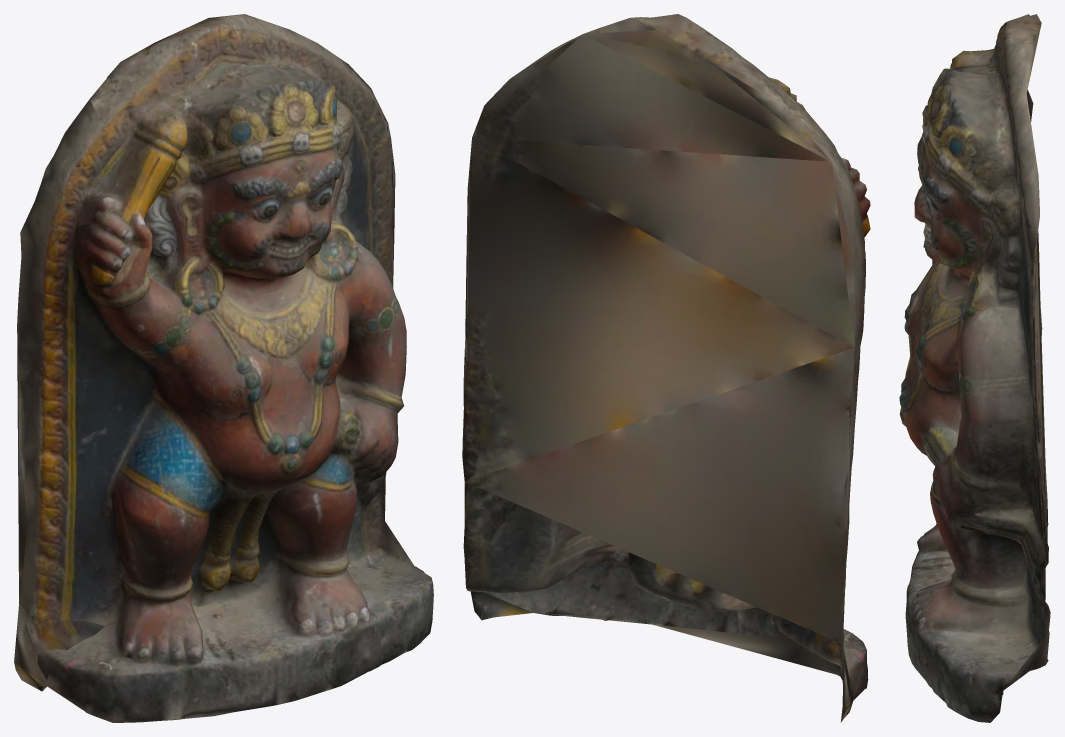
File: kala-bhairava-low.glb
3 renders of one model, left to right at view 1: azimuth 30°, elevation 25°; view 2: azimuth 150°, elevation 25°; view 3: azimuth 270°, elevation 25°, orthographic. The views are drawn at different scales.
Visible parts, largest first — view 1: Object_2; view 2: Object_2; view 3: Object_2.
Boxes of the visible parts, x1,y1,x2,y2 form: Object_2: (14,14,433,722); Object_2: (462,14,870,722); Object_2: (899,14,1050,722).
Size of the model in its own units: 28.29 by 44.6 by 10.06.
Materials: 1 (1 with a texture image).
